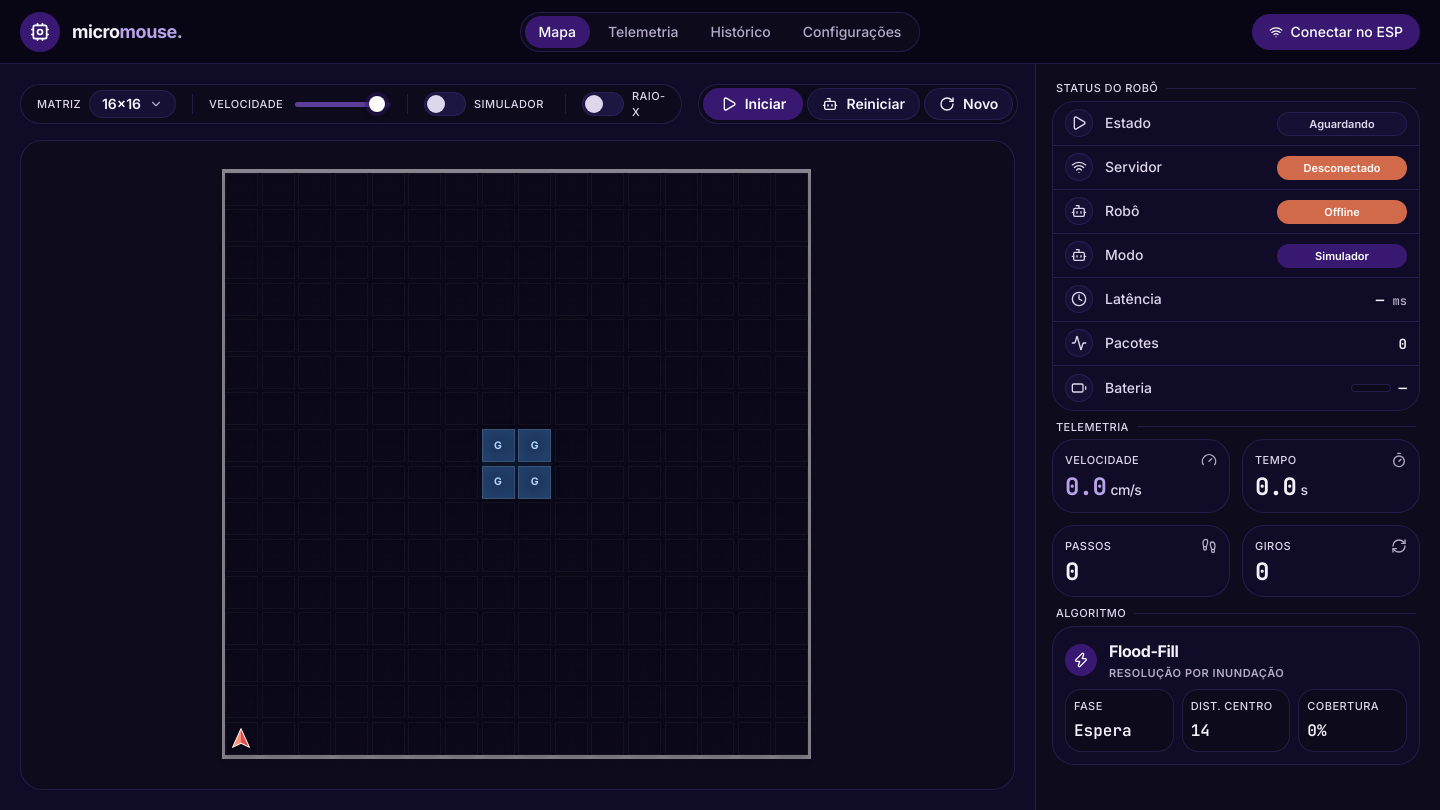
Test case: histórico: ranking e detalhe/replay › clicar numa corrida abre o modal e o replay
The width and height of the screenshot is (1440, 810).
Click the button "Histórico" at (741, 32), box [696,16,785,48]
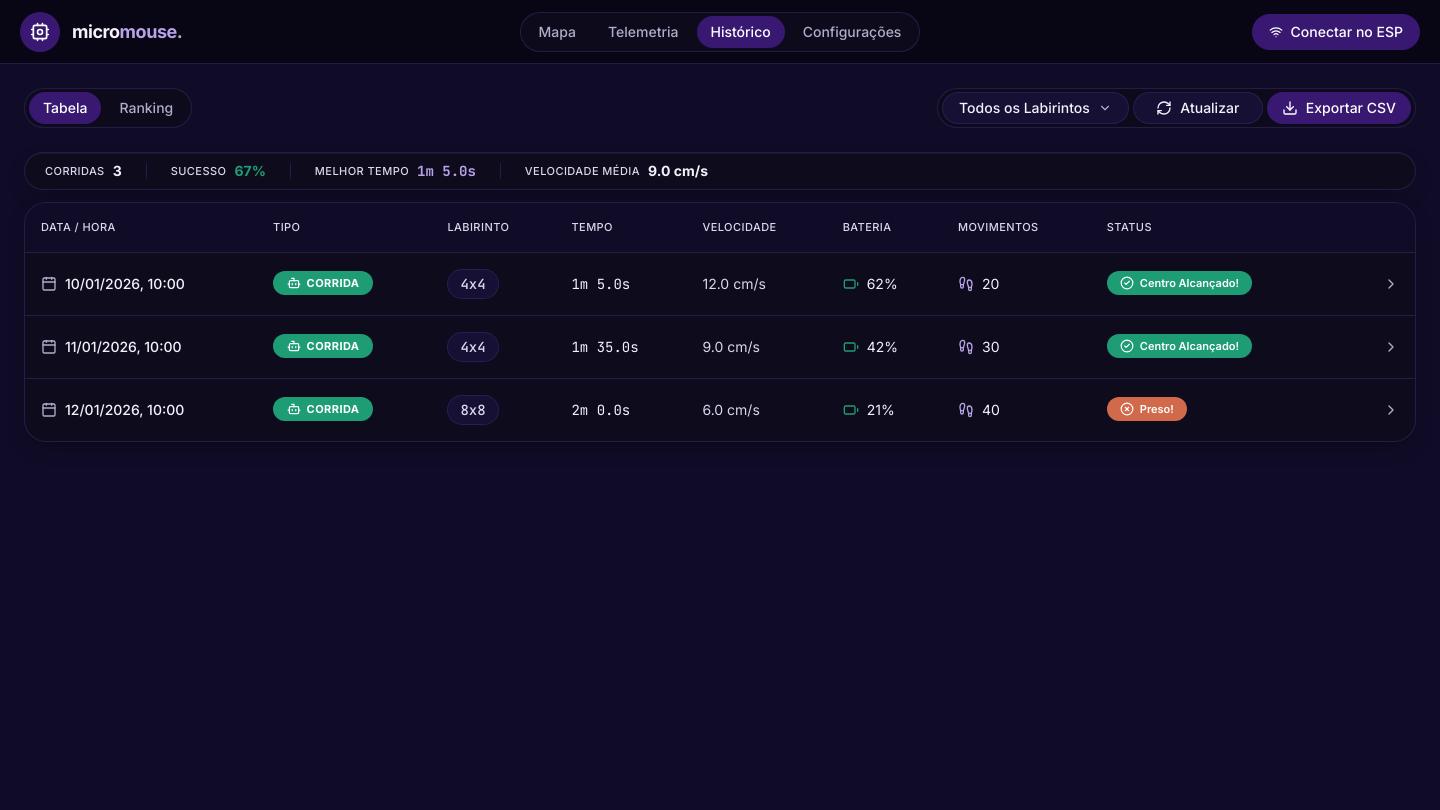
Now the element with test id "historico-view" is shown
Click the 1st row with test id "corrida-item" at (720, 284), box [25,252,1415,315]
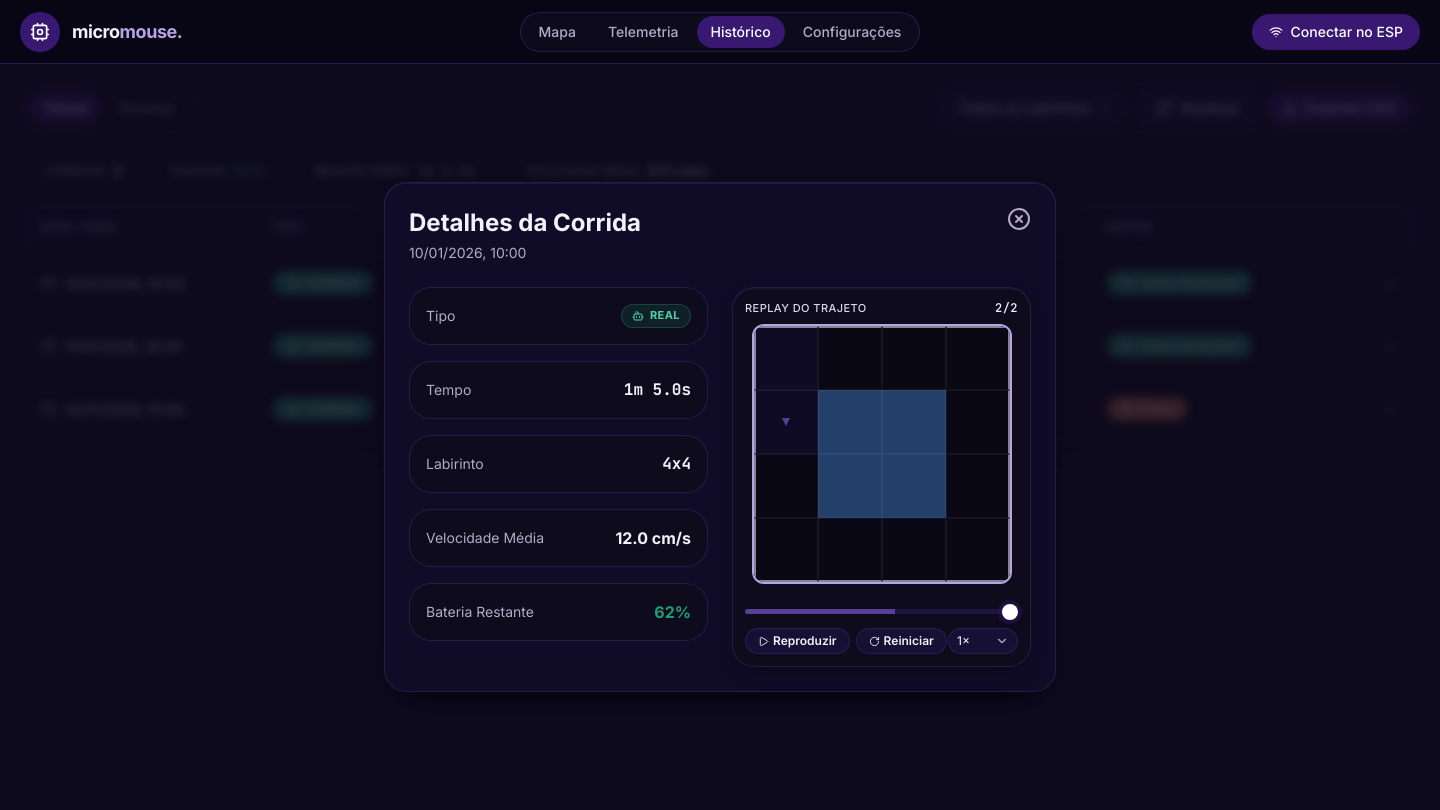
Now the heading "Detalhes da Corrida" is shown, box [409,207,641,239]
Now the text "Replay do Trajeto" is shown, box [745,300,867,316]
